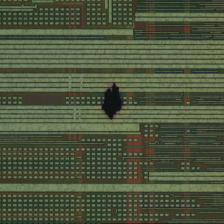PARTICLE: (102, 82, 124, 121)
